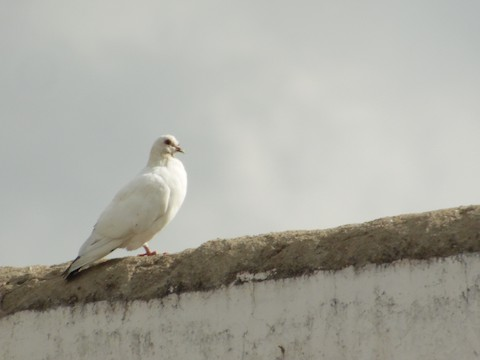pigeon: (60, 132, 198, 284)
